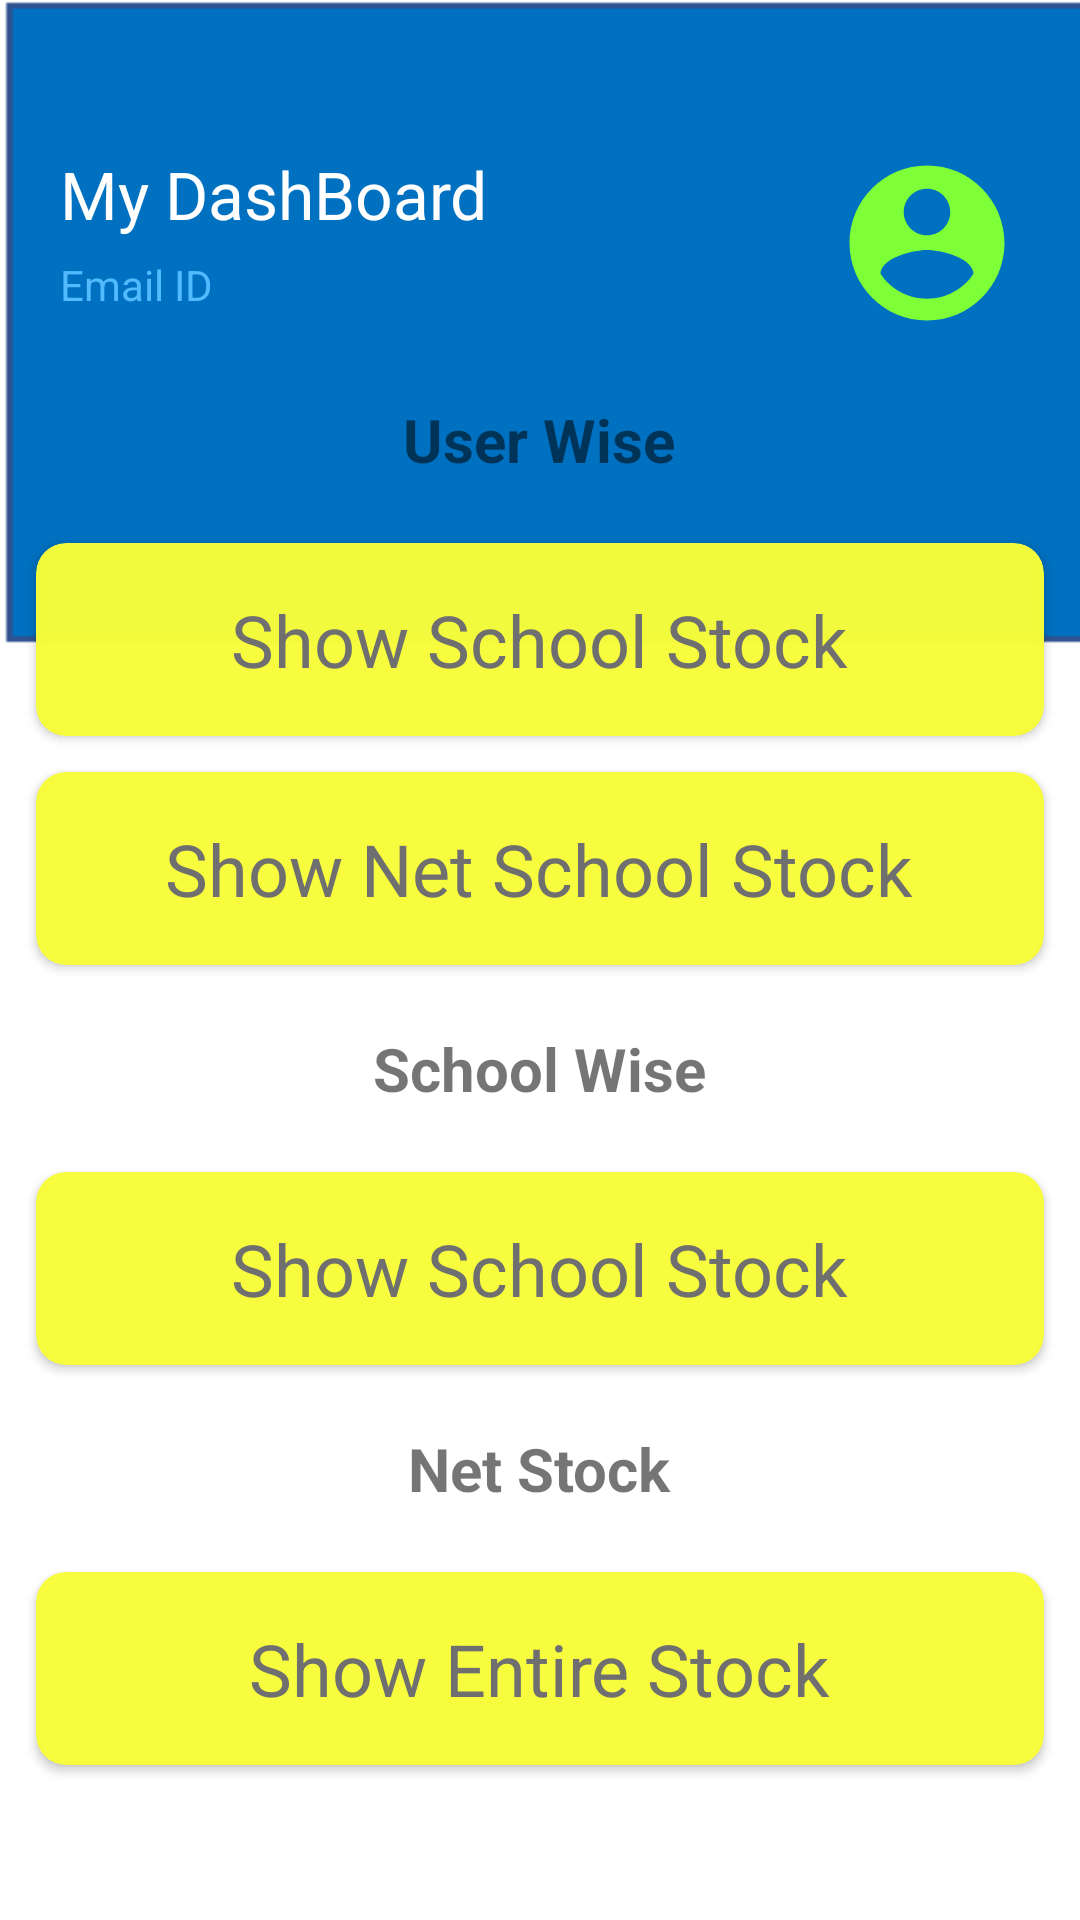

Screen size 1080px×1920px. Icon name, then its center in pixels as (x,y):
account: (927,243)
